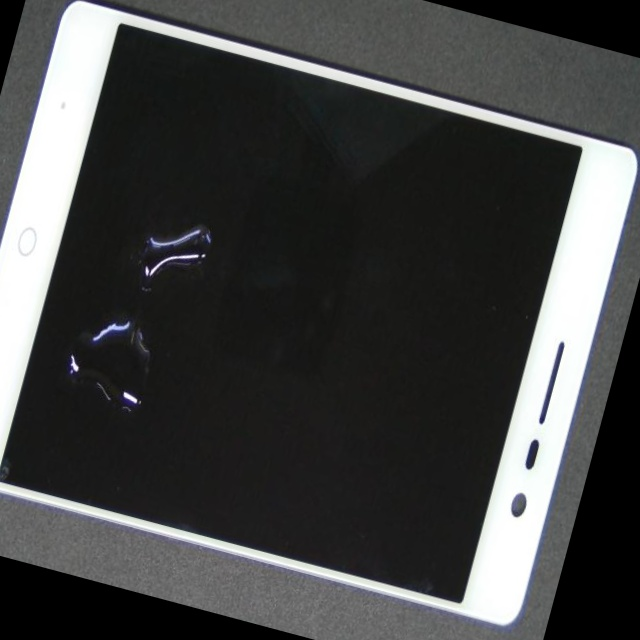oil: (14, 140, 285, 552), (76, 69, 362, 380)
